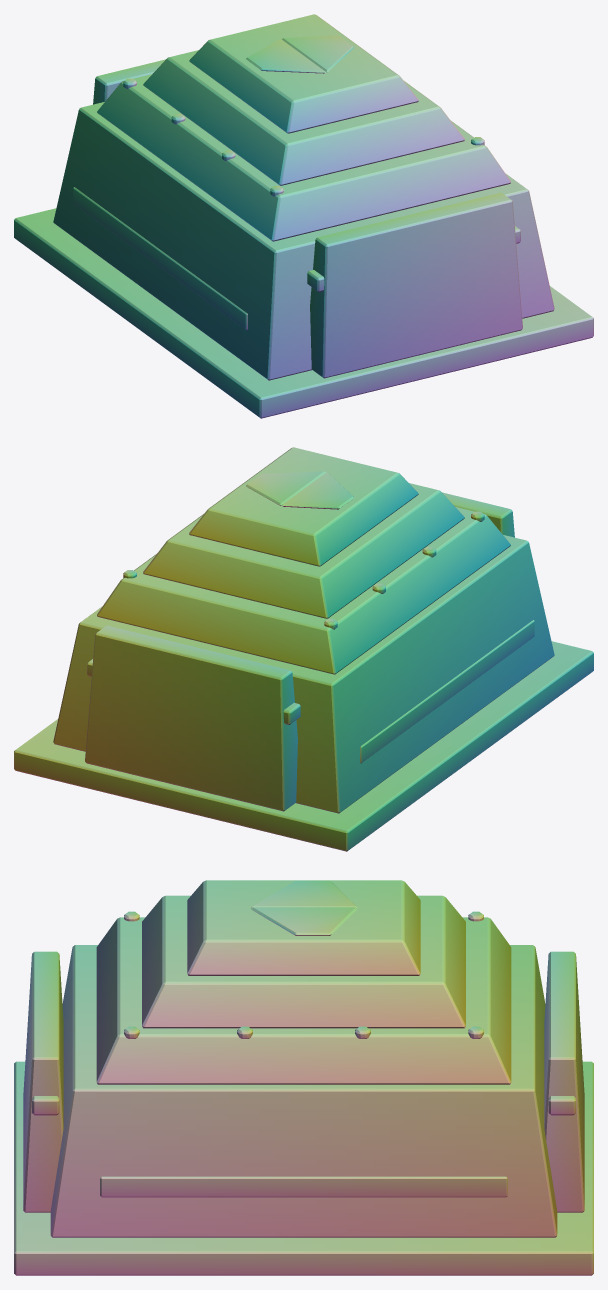
Rendered from module_armour_rig.glb.
The picture shows the model from 3 angles, top to bottom: view 1: azimuth 30°, elevation 25°; view 2: azimuth 150°, elevation 25°; view 3: azimuth 270°, elevation 25°; orthographic projection. The views are drawn at different scales.
Parts seen in each view (by area): view 1: body; view 2: body; view 3: body.
Boxes of the visible parts, <box> form: body: <box>14,14,593,418</box>; body: <box>14,447,593,851</box>; body: <box>14,880,593,1275</box>.
Bounding box in the file's own units: 10 × 6.68 × 12.8.
